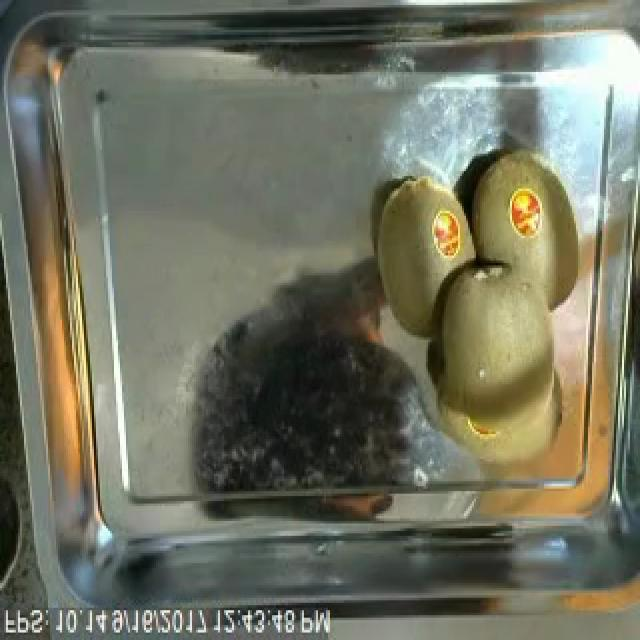Fruit: (412, 246, 596, 496), (364, 166, 484, 347)
